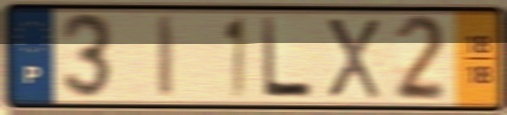1: (220, 12, 254, 104)
2: (392, 13, 448, 105)
3: (60, 10, 115, 104)
I: (154, 13, 179, 101)
L: (259, 15, 316, 101)
X: (322, 15, 384, 102)
